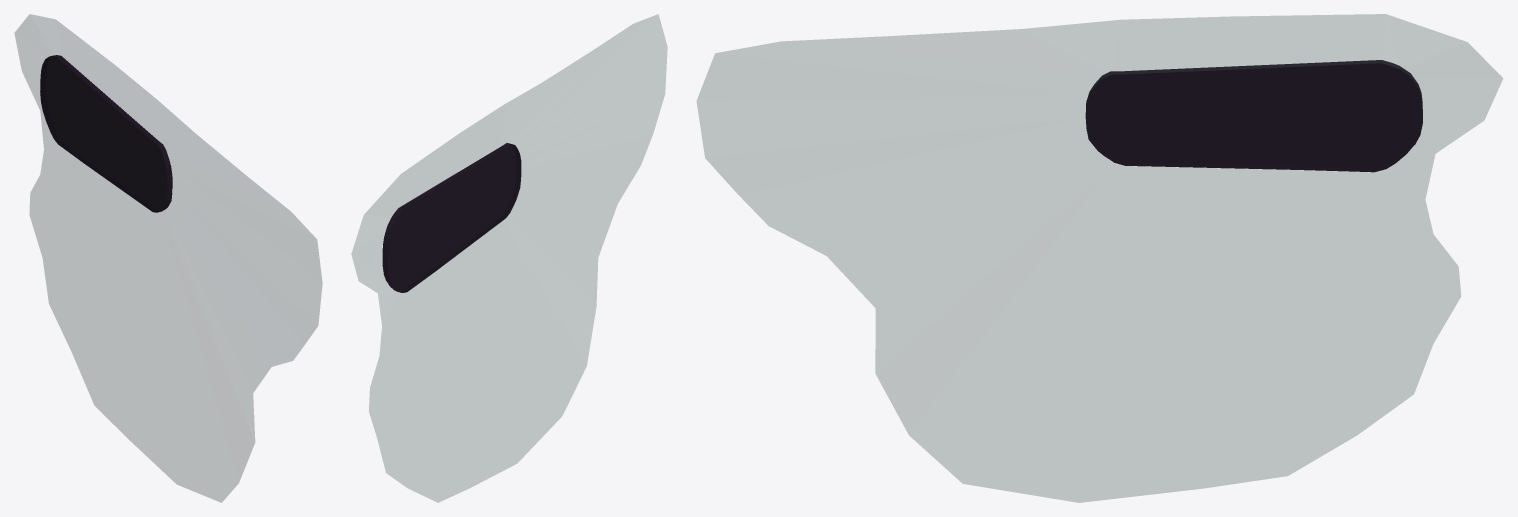
Rendered from Vapour_Barrier.fbx.
3 views of the same model, side by side, from view 1: azimuth 30°, elevation 25°; view 2: azimuth 150°, elevation 25°; view 3: azimuth 270°, elevation 25° (orthographic). The views are drawn at different scales.
Visible parts, largest first — view 1: Cube, Cube.001; view 2: Cube, Cube.001; view 3: Cube, Cube.001.
Boxes of the visible parts, x1,y1,x2,y2 form: Cube: (14,14,322,502); Cube.001: (40,55,172,212); Cube: (351,14,667,502); Cube.001: (382,143,521,292); Cube: (697,14,1502,502); Cube.001: (1085,60,1422,172).
Bounding box in the file's own units: 1.54 × 54.23 × 81.31.
